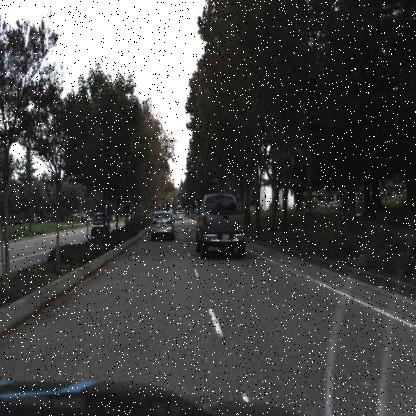car: (192, 186, 250, 264), (151, 208, 175, 239), (88, 209, 110, 235)
